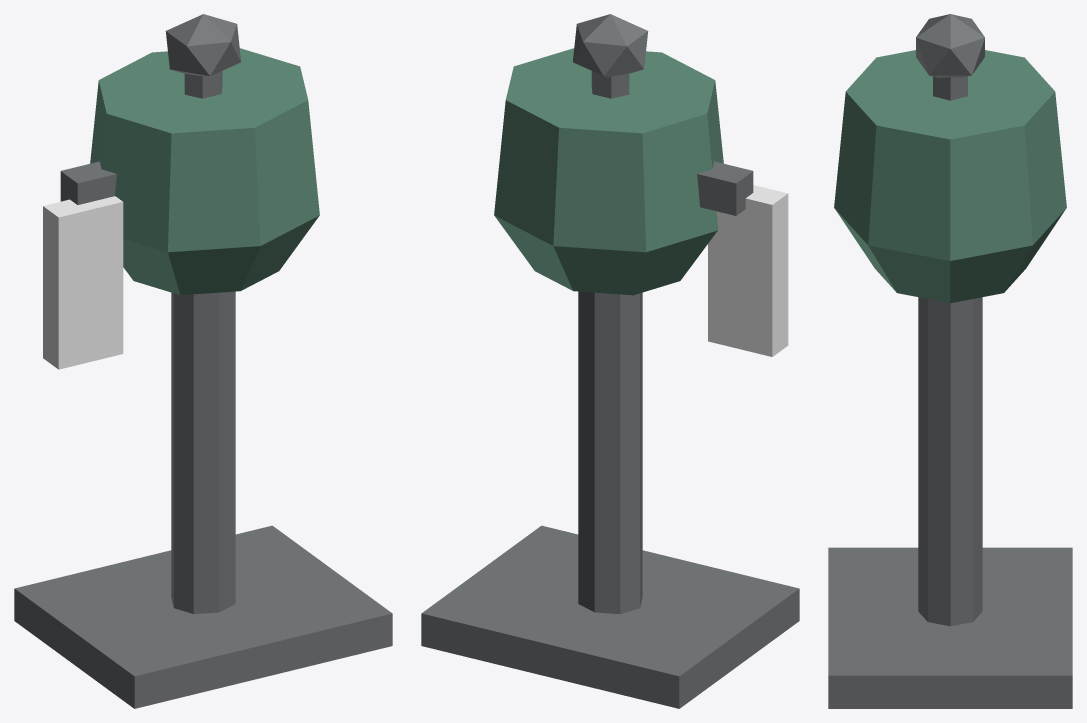
File: ball_washer_01.glb
The picture shows the model from 3 angles, left to right: view 1: azimuth 30°, elevation 25°; view 2: azimuth 150°, elevation 25°; view 3: azimuth 270°, elevation 25°; orthographic projection.
Visible parts, largest first — view 1: Ball_washer_01; view 2: Ball_washer_01; view 3: Ball_washer_01.
Part boxes in pixels (left/top/right/bottom): Ball_washer_01: left=14, top=14, right=392, bottom=708; Ball_washer_01: left=421, top=14, right=799, bottom=708; Ball_washer_01: left=828, top=14, right=1072, bottom=708.
Bounding box in the file's own units: 0.557 × 1.14 × 0.3991.
